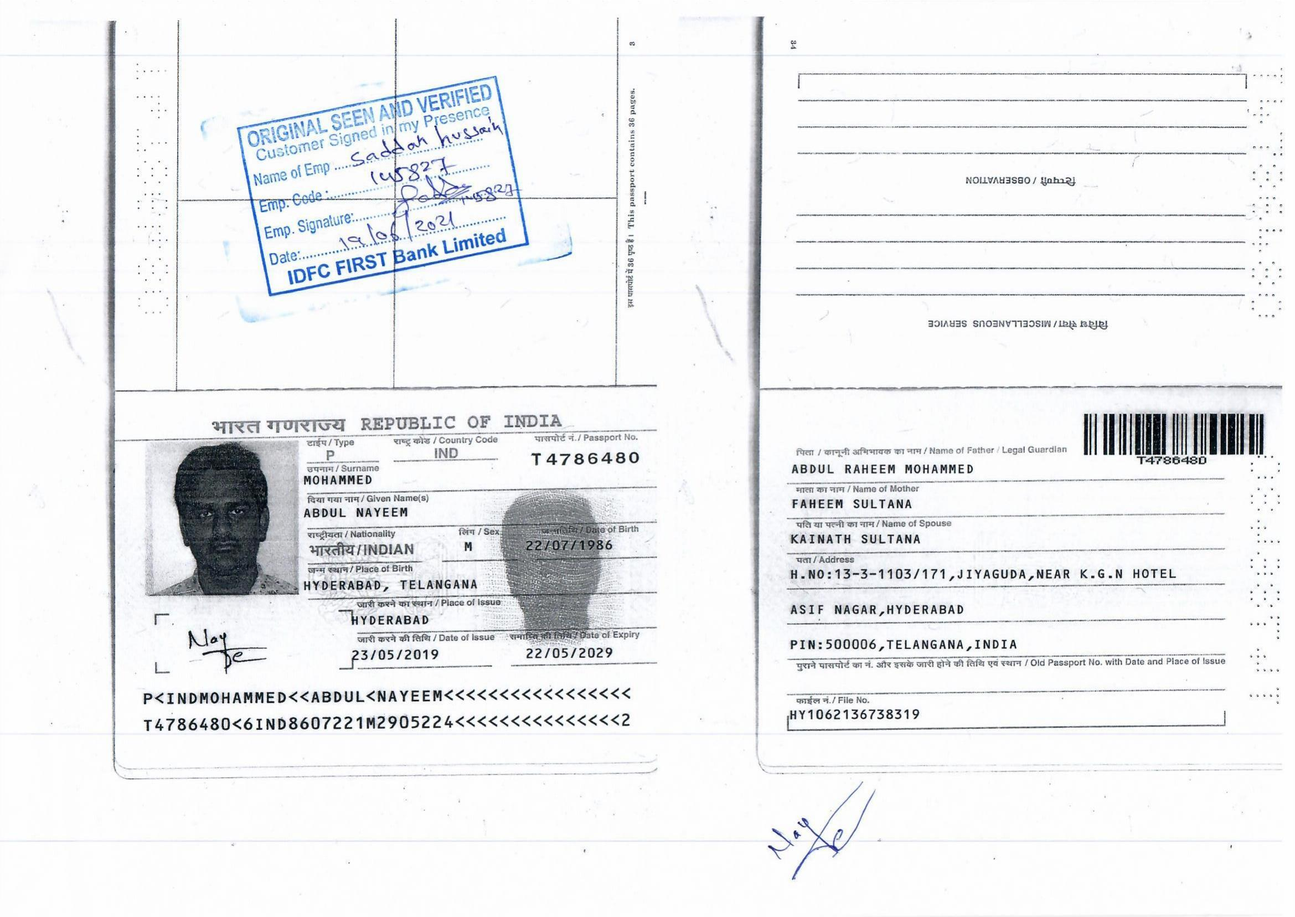DOB: (514, 532, 629, 554)
File_no: (785, 702, 932, 728)
Surname: (298, 472, 382, 497)
address: (778, 547, 1195, 657)
country_code: (426, 440, 468, 465)
date_of_expiry: (508, 636, 626, 663)
date_of_issue: (350, 642, 461, 668)
details: (136, 682, 638, 739)
father_name: (780, 452, 986, 482)
mother_name: (782, 491, 918, 515)
name: (303, 503, 442, 531)
nationality: (309, 535, 417, 561)
passport_no: (524, 443, 646, 470), (1132, 450, 1214, 470)
photo: (162, 452, 294, 590)
place_of_birth: (300, 575, 507, 595)
place_of_issue: (350, 609, 443, 628)
sex: (451, 532, 488, 557)
sign: (179, 618, 263, 673)
spouse_name: (782, 525, 924, 548)
type: (313, 442, 350, 464)
